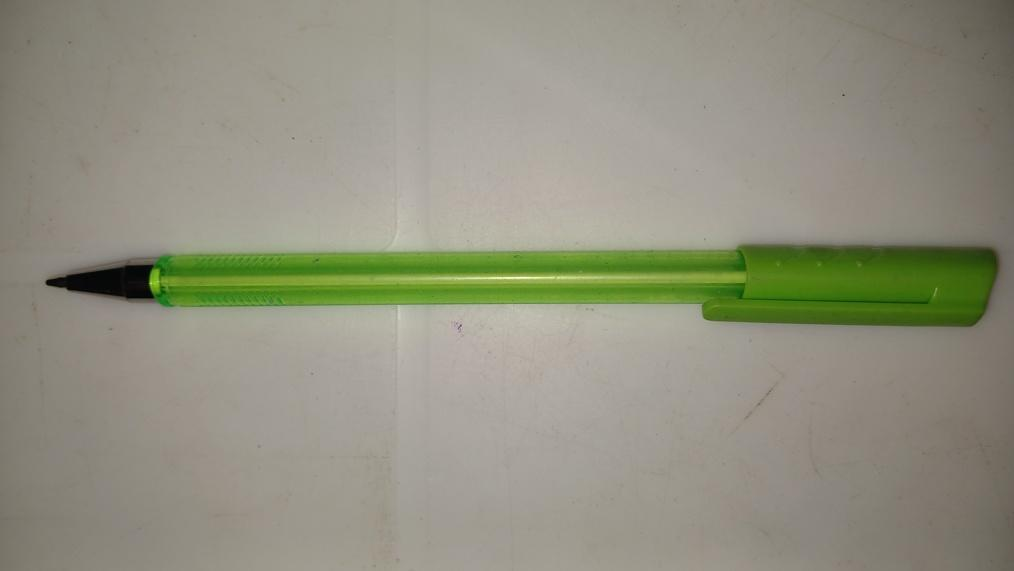pen: (41, 246, 998, 327)
